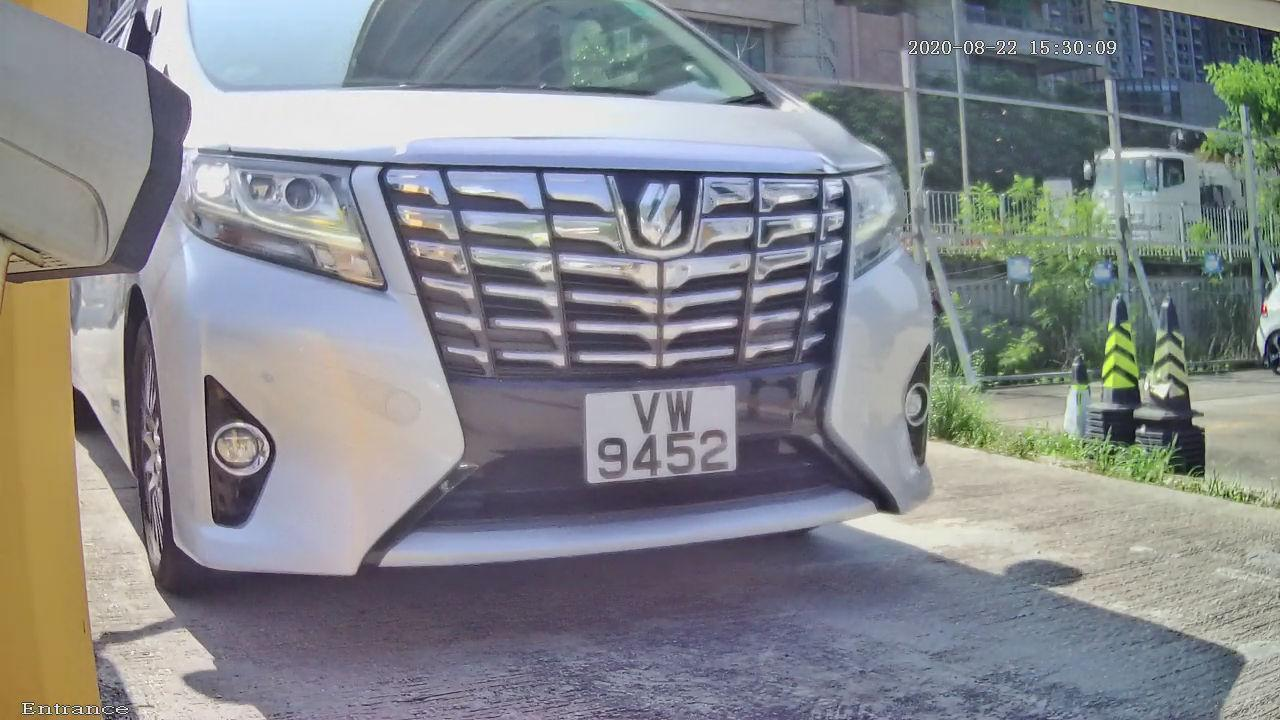License Plate: (561, 351, 755, 505)
